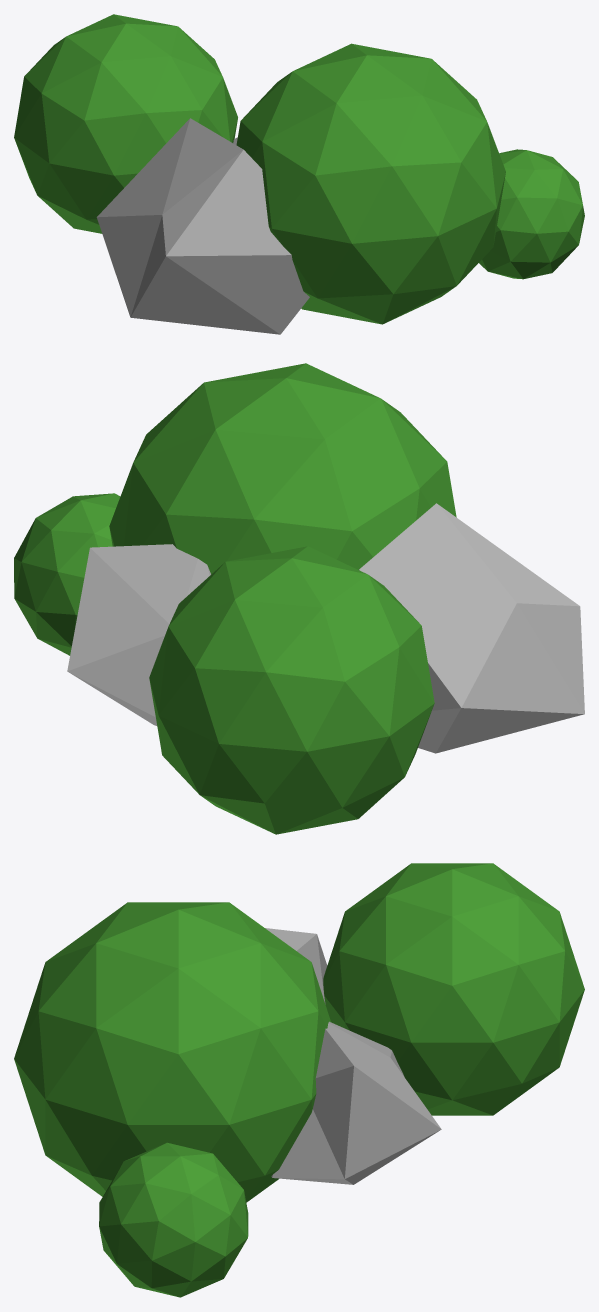
The model's file is combo.fbx.
3 views of the same model, one above another, from view 1: azimuth 30°, elevation 25°; view 2: azimuth 150°, elevation 25°; view 3: azimuth 270°, elevation 25° (orthographic). The views are drawn at different scales.
Visible parts, largest first — view 1: Icosphere.015, Icosphere.017, Icosphere.016, Icosphere.014; view 2: Icosphere.016, Icosphere.015, Icosphere.017, Icosphere.018, Icosphere.014; view 3: Icosphere.015, Icosphere.016, Icosphere.014, Icosphere.018, Icosphere.017.
Boxes of the visible parts, <box> form: Icosphere.015: <box>236,43,505,324</box>; Icosphere.017: <box>96,118,309,334</box>; Icosphere.016: <box>14,14,237,233</box>; Icosphere.014: <box>479,149,584,279</box>; Icosphere.016: <box>149,546,434,834</box>; Icosphere.015: <box>109,363,456,574</box>; Icosphere.017: <box>359,503,584,753</box>; Icosphere.018: <box>67,544,210,725</box>; Icosphere.014: <box>14,493,120,655</box>; Icosphere.015: <box>14,902,330,1202</box>; Icosphere.016: <box>323,863,584,1115</box>; Icosphere.014: <box>99,1142,248,1297</box>; Icosphere.018: <box>271,1021,441,1184</box>; Icosphere.017: <box>265,928,327,1004</box>.
Size of the model in its own units: 143 by 79.62 by 138.
